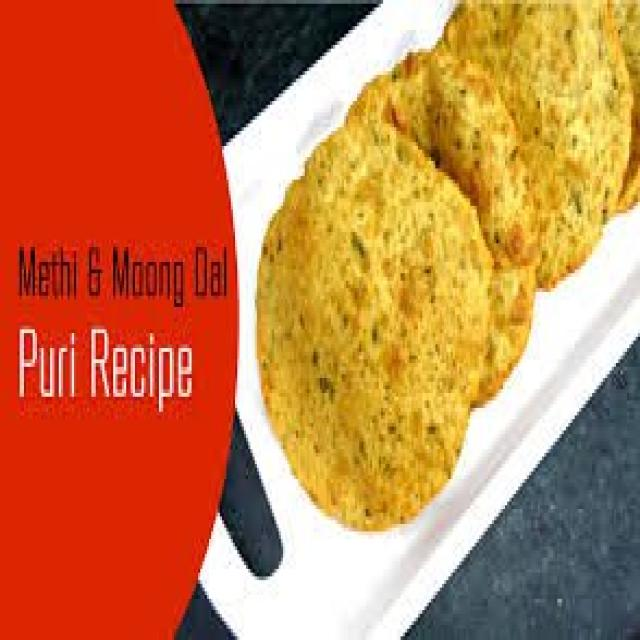puri: (223, 34, 632, 476)
